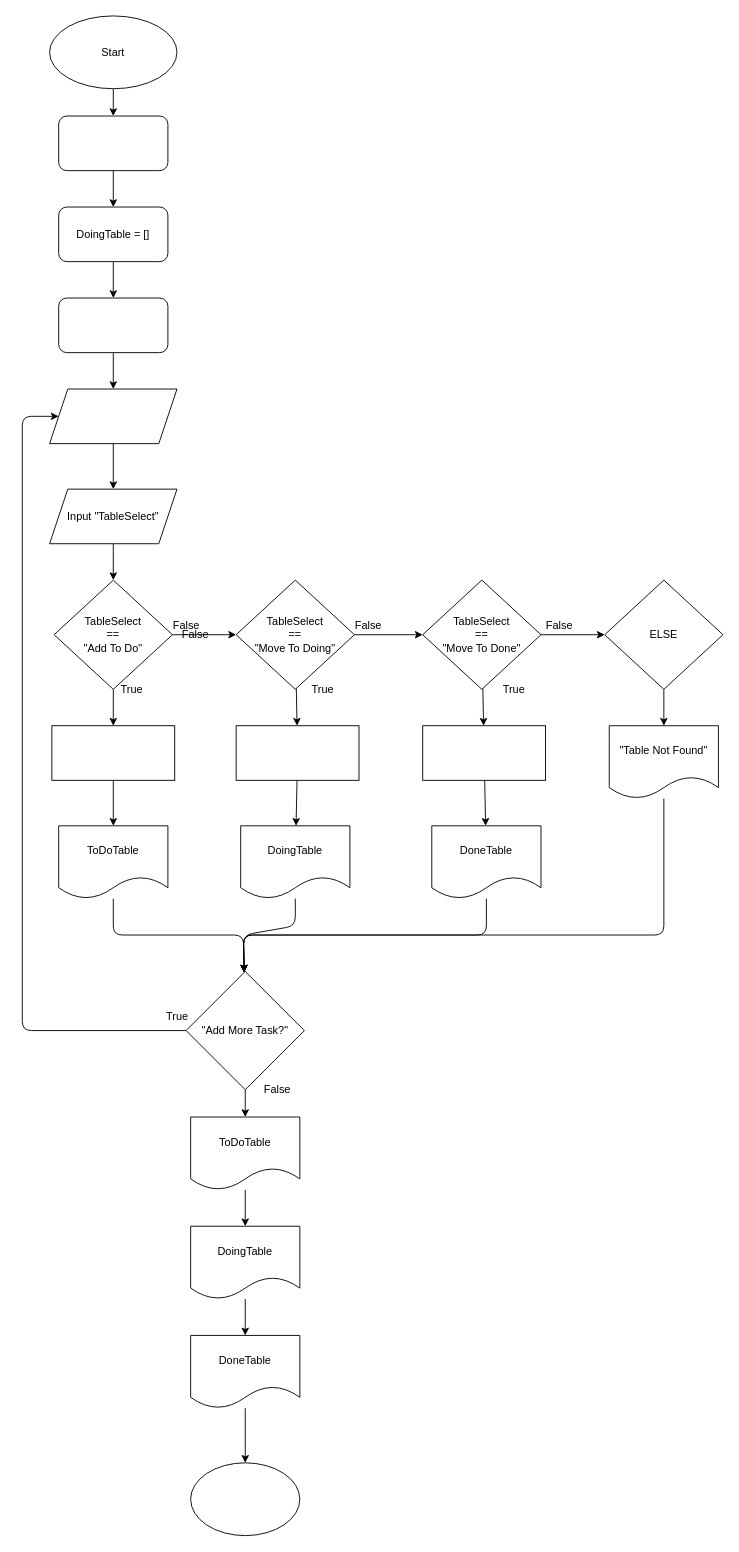
Some shapes in this 739 by 1552 pixel diagram are drawn without their labels. The shapes that lost their labels are listed below. From the top down, each one's centre as x and y in pixels, then its label:
pixel 113 143: ToDoTable = []
pixel 113 325: DoneTable = []
pixel 113 416: Input "Task"
pixel 113 752: ToDoTable.push(Task)
pixel 297 752: DoingTable.push(Task)
pixel 484 752: DoneTable.push(Task)
pixel 245 1499: End
